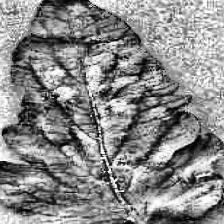leaf mold: (0, 0, 223, 224)
